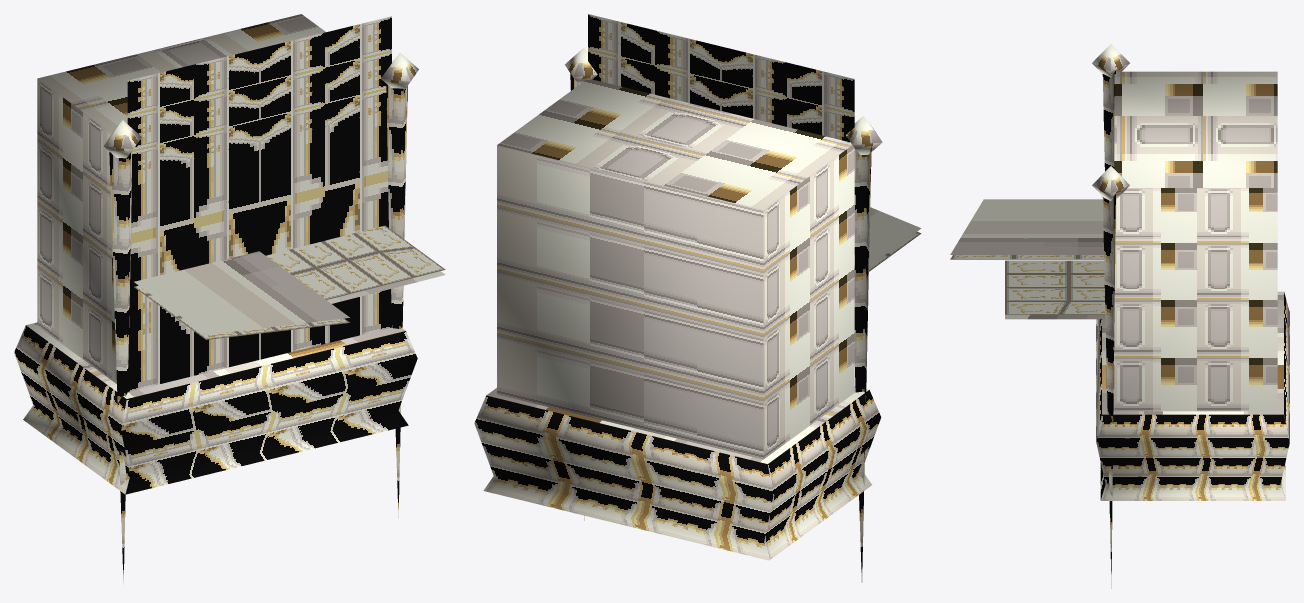
File: 3084IMRL06_02.gltf
3 renders of one model, left to right at view 1: azimuth 30°, elevation 25°; view 2: azimuth 150°, elevation 25°; view 3: azimuth 270°, elevation 25°, orthographic. The views are drawn at different scales.
Visible parts, largest first — view 1: 3084IMRL06_02; view 2: 3084IMRL06_02; view 3: 3084IMRL06_02.
Boxes of the visible parts, x1,y1,x2,y2 form: 3084IMRL06_02: (14,14,445,584); 3084IMRL06_02: (474,14,921,582); 3084IMRL06_02: (950,44,1289,588).
Bounding box in the file's own units: 1.67 × 2.55 × 1.72.
Materials: 4 (4 with a texture image).
